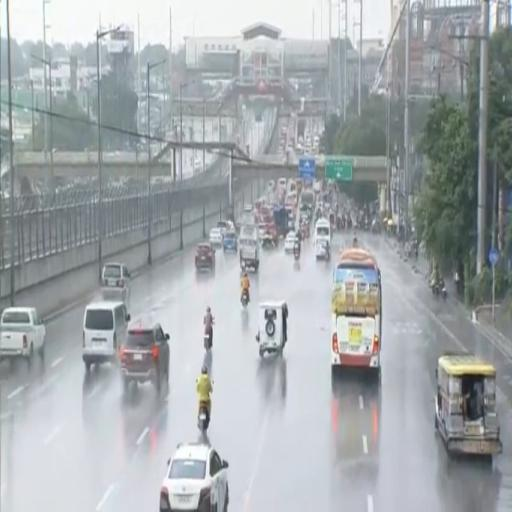bus: (331, 248, 381, 374)
car: (159, 443, 229, 511), (120, 318, 169, 394), (102, 263, 130, 308), (195, 243, 215, 269), (223, 232, 238, 251), (210, 228, 223, 246), (285, 232, 296, 252), (217, 220, 229, 234)
jeepney: (435, 354, 502, 455)
motorcycle: (198, 403, 209, 433), (204, 319, 213, 351), (241, 291, 249, 308), (432, 283, 440, 299), (441, 286, 447, 301), (325, 247, 330, 262), (294, 249, 300, 261)
truck: (0, 308, 45, 364), (239, 226, 260, 271)
